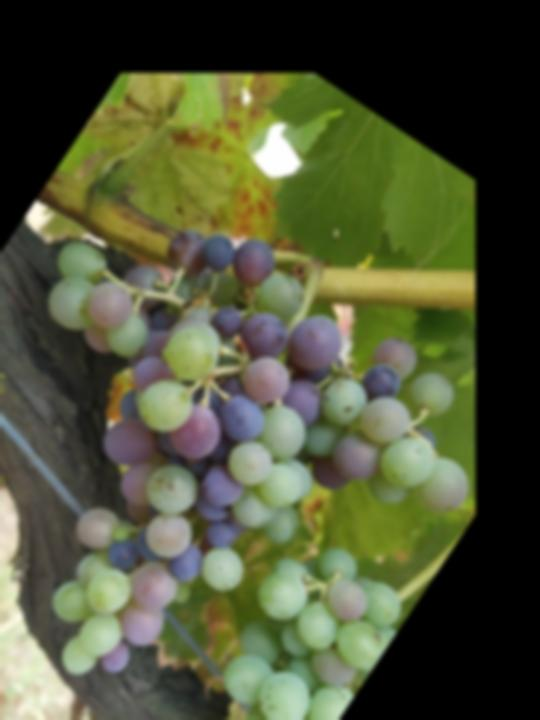grape: (0, 146, 528, 720)
